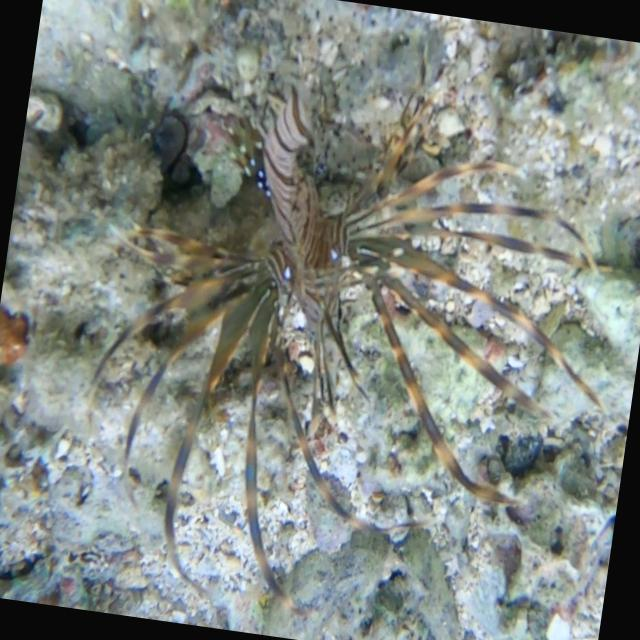Aslan Baligi: (57, 55, 640, 640)
